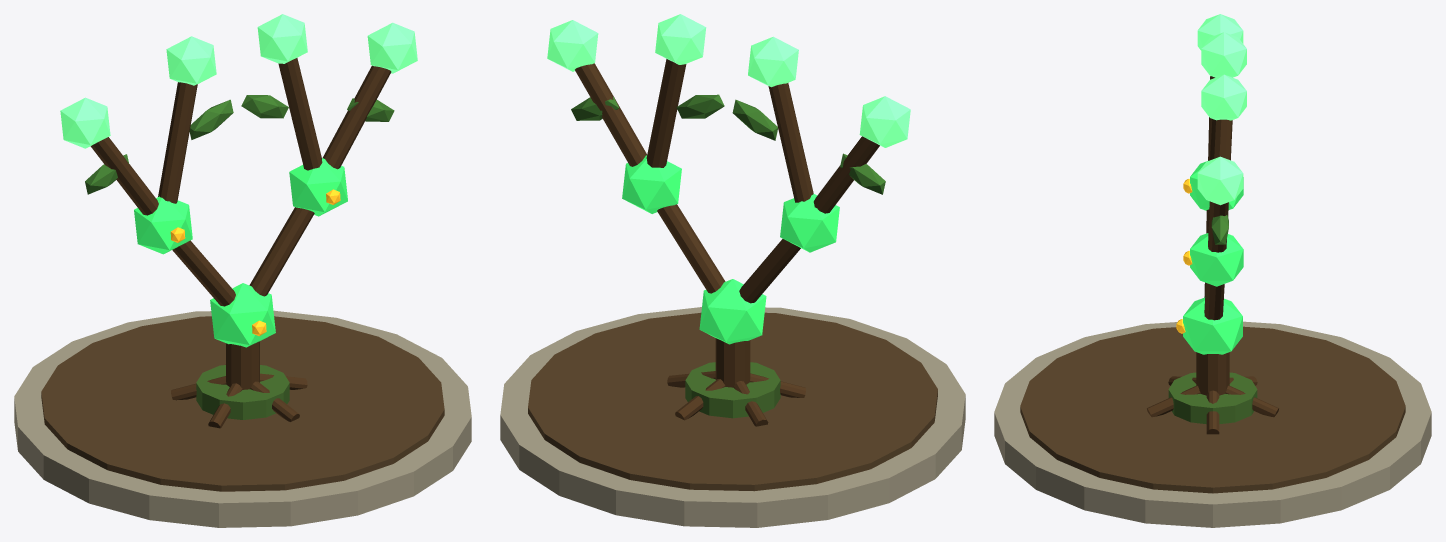
File: landmark_dsa.glb
3 views of the same model, side by side, from view 1: azimuth 30°, elevation 25°; view 2: azimuth 150°, elevation 25°; view 3: azimuth 270°, elevation 25° (orthographic). The views are drawn at different scales.
Parts seen in each view (by area): view 1: landmark_dsa; view 2: landmark_dsa; view 3: landmark_dsa.
Boxes of the visible parts, <box> form: landmark_dsa: <box>14,14,471,527</box>; landmark_dsa: <box>500,14,965,527</box>; landmark_dsa: <box>994,14,1431,527</box>.
Size of the model in its own units: 2.36 by 2.28 by 2.36.
